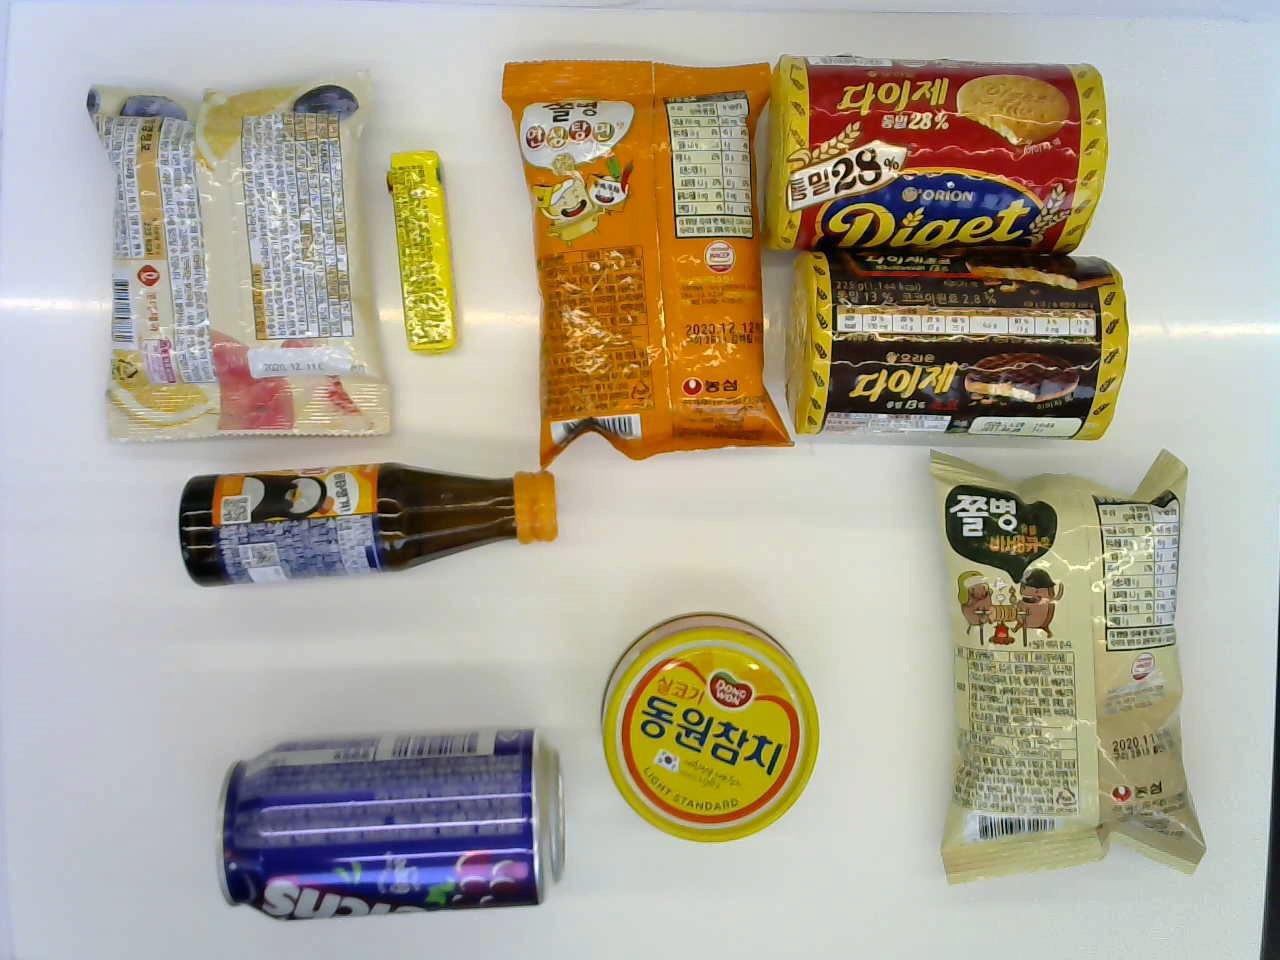diget_choco: (785, 238, 1124, 444)
diget_ori: (771, 49, 1119, 257)
gumi_gumi: (75, 61, 392, 443)
jjolbyung_noodle: (493, 48, 790, 469)
jjolbyung_ori: (930, 451, 1203, 893)
juicyfresh: (396, 144, 457, 357)
tuna: (590, 615, 822, 845)
vita500: (164, 467, 563, 586)
welchs: (217, 718, 564, 929)
